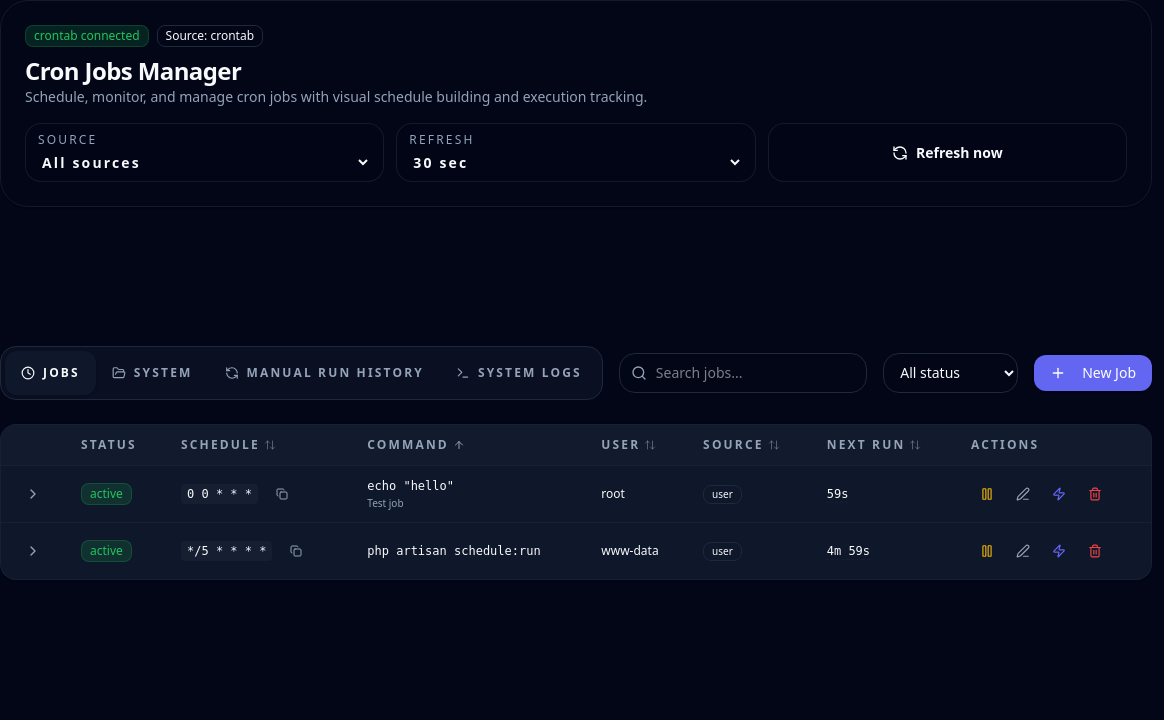
CronsPage › filters by search
The image size is (1164, 720).
Expected: the text "echo \"hello\"" is shown, [367,478,454,492]
Type "artisan" into the field with placeholder "Search jobs..." at (743, 372), box [619,352,867,392]
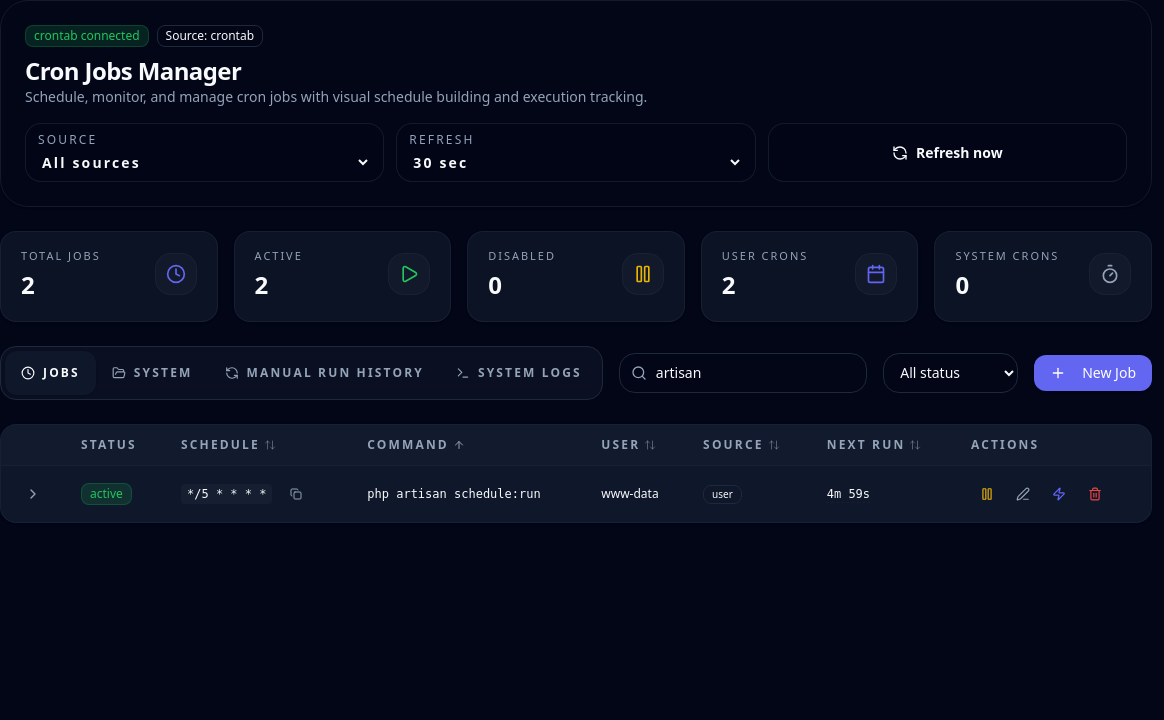
Expected: the text "php artisan schedule:run" is shown, [367,486,569,502]
Expected: the text "echo \"hello\"" is gone
